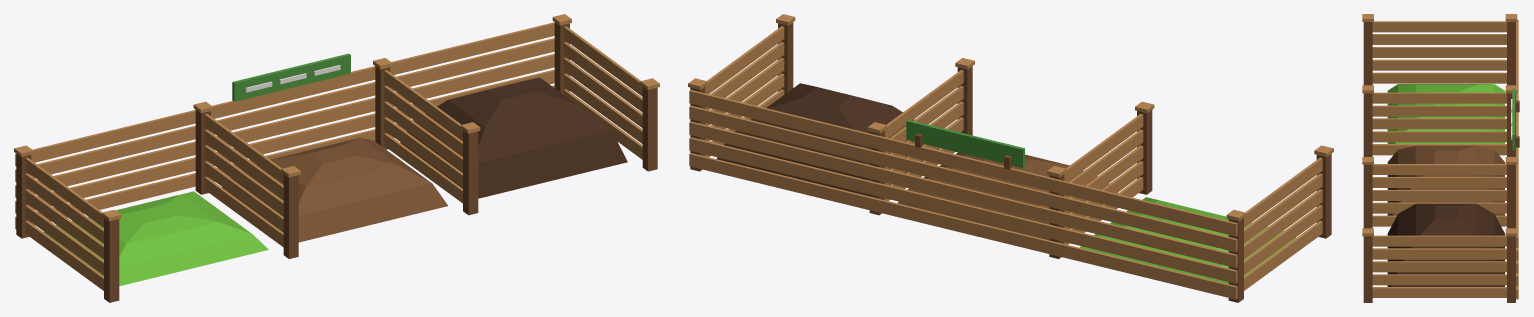
File: compost.glb
The picture shows the model from 3 angles, left to right: view 1: azimuth 30°, elevation 25°; view 2: azimuth 150°, elevation 25°; view 3: azimuth 270°, elevation 25°; orthographic projection. The views are drawn at different scales.
Visible parts, largest first — view 1: back_slats, divider_slats, heap_1, heap_2, heap_3, posts, sign, post_caps, sign_text; view 2: back_slats, divider_slats, heap_1, posts, sign, heap_2, heap_3, post_caps; view 3: divider_slats, posts, heap_1, heap_2, heap_3, post_caps, back_slats, sign, sign_stubs.
Part boxes in pixels (x1=…): back_slats: x1=15, y1=22, x2=554, y2=229; divider_slats: x1=25, y1=26, x2=642, y2=290; heap_1: x1=400, y1=77, x2=627, y2=198; heap_2: x1=222, y1=137, x2=447, y2=242; heap_3: x1=44, y1=191, x2=268, y2=286; posts: x1=16, y1=22, x2=657, y2=302; sign: x1=232, y1=53, x2=350, y2=101; post_caps: x1=14, y1=14, x2=659, y2=221; sign_text: x1=245, y1=65, x2=340, y2=92; back_slats: x1=689, y1=90, x2=1237, y2=299; divider_slats: x1=705, y1=26, x2=1322, y2=290; heap_1: x1=717, y1=83, x2=939, y2=196; posts: x1=690, y1=22, x2=1331, y2=302; sign: x1=906, y1=120, x2=1024, y2=168; heap_2: x1=898, y1=152, x2=1117, y2=240; heap_3: x1=1080, y1=197, x2=1295, y2=283; post_caps: x1=688, y1=14, x2=1333, y2=221; divider_slats: x1=1372, y1=21, x2=1506, y2=297; posts: x1=1363, y1=22, x2=1515, y2=302; heap_1: x1=1387, y1=203, x2=1504, y2=286; heap_2: x1=1387, y1=145, x2=1504, y2=215; heap_3: x1=1387, y1=84, x2=1504, y2=143; post_caps: x1=1362, y1=14, x2=1517, y2=236; back_slats: x1=1516, y1=20, x2=1518, y2=299; sign: x1=1512, y1=88, x2=1515, y2=150; sign_stubs: x1=1515, y1=100, x2=1519, y2=147.
Size of the model in its own units: 8.04 by 1.4 by 2.44.
